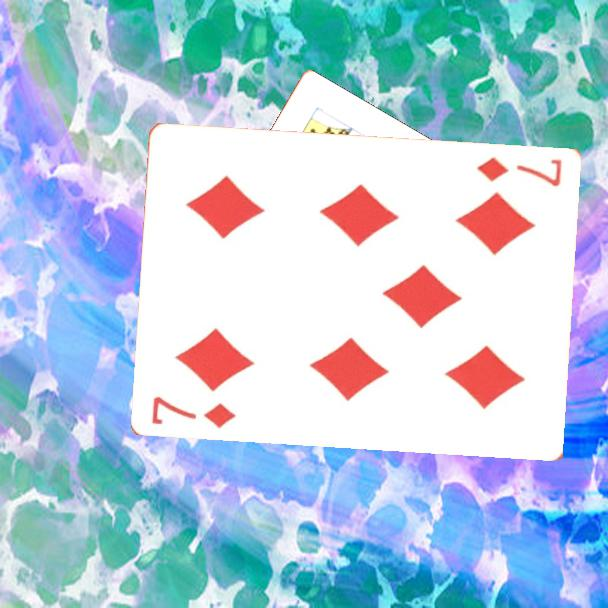d07: (149, 392, 240, 430), (474, 153, 565, 189)
